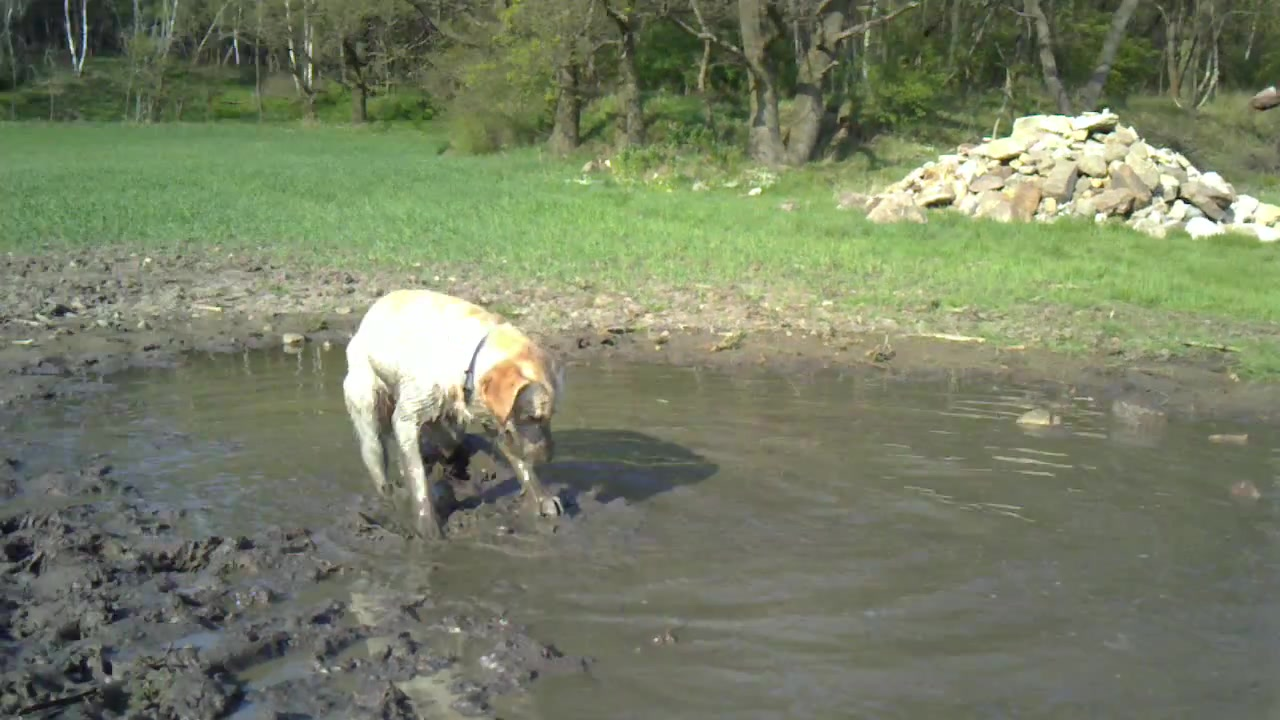dog: (342, 288, 568, 542)
